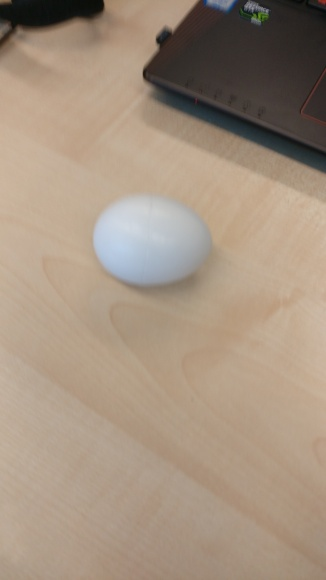egg: (92, 193, 210, 295)
